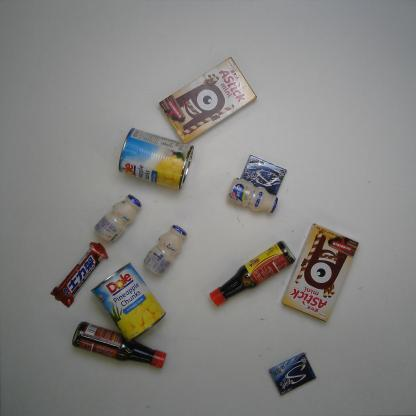Canned Food: (89, 259, 167, 344), (114, 126, 198, 190)
Chocolate: (47, 240, 116, 312)
Dessert: (154, 54, 260, 146), (279, 221, 360, 324)
Gum: (266, 351, 320, 399), (240, 152, 291, 198)
Milk: (92, 193, 146, 248), (141, 223, 189, 278), (225, 176, 280, 217)
Seasoner: (206, 239, 296, 311), (68, 319, 168, 372)
